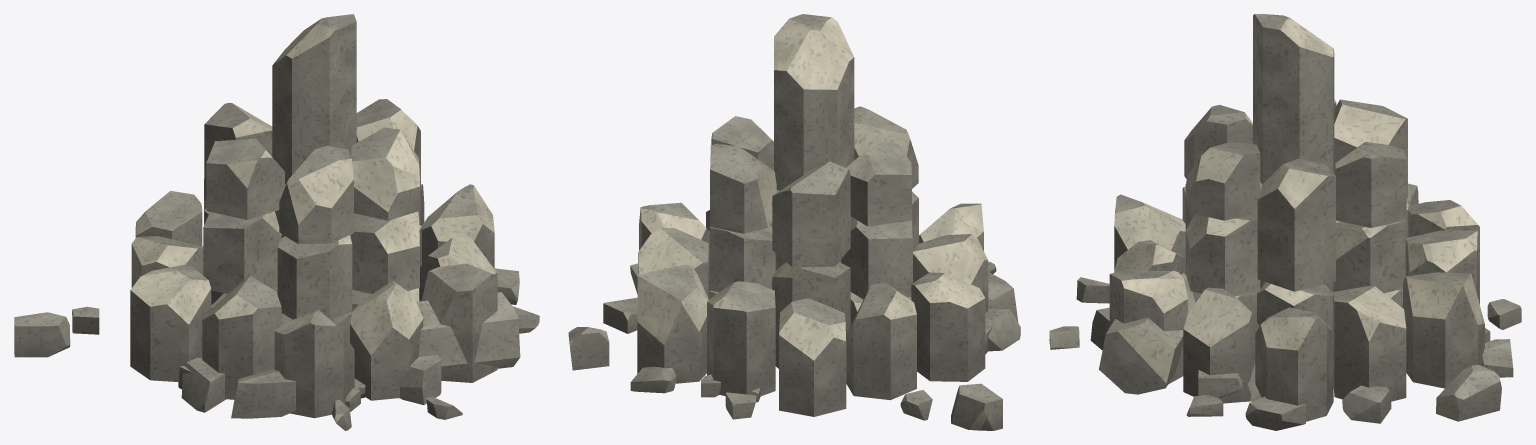
The picture shows the model from 3 angles, left to right: view 1: azimuth 30°, elevation 25°; view 2: azimuth 150°, elevation 25°; view 3: azimuth 270°, elevation 25°; orthographic projection. The views are drawn at different scales.
Parts seen in each view (by area): view 1: weathered mineral, fresh chipped mineral; view 2: weathered mineral, fresh chipped mineral; view 3: weathered mineral, fresh chipped mineral.
Boxes of the visible parts, bbox=[...] form: weathered mineral: bbox=[14, 14, 539, 430]; fresh chipped mineral: bbox=[130, 19, 539, 422]; weathered mineral: bbox=[568, 14, 1020, 430]; fresh chipped mineral: bbox=[569, 17, 987, 430]; weathered mineral: bbox=[1049, 14, 1521, 430]; fresh chipped mineral: bbox=[1114, 18, 1520, 421].
Size of the model in its own units: 1.55 by 1.05 by 1.39.
Materials: 2 (2 with a texture image).
